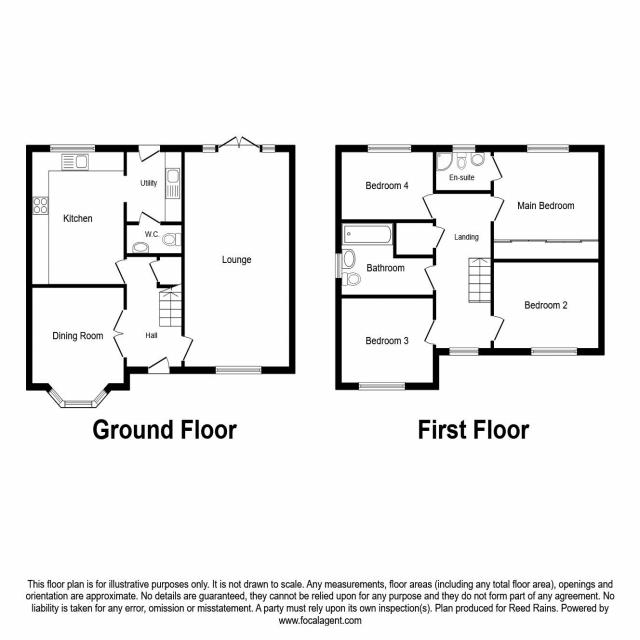DOOR: (137, 144, 161, 164), (490, 195, 506, 223), (147, 355, 170, 374), (490, 315, 505, 341), (421, 193, 436, 219), (423, 319, 436, 346), (423, 264, 436, 291), (181, 335, 194, 362), (114, 258, 127, 285), (138, 210, 161, 225), (491, 156, 503, 182)
DOUBLE DOOR: (218, 135, 260, 153), (112, 309, 127, 358)
ROOM: (181, 135, 296, 375), (26, 145, 185, 288), (490, 144, 605, 263), (25, 284, 130, 409), (490, 258, 605, 356), (335, 294, 440, 391), (335, 144, 436, 223)
WINDOW: (47, 387, 109, 409), (358, 381, 406, 391), (215, 365, 262, 375), (531, 347, 578, 356), (49, 144, 96, 153), (367, 144, 412, 153), (527, 144, 569, 153), (449, 347, 479, 356), (334, 253, 343, 279), (452, 144, 476, 153), (202, 144, 216, 154), (262, 144, 276, 153)
